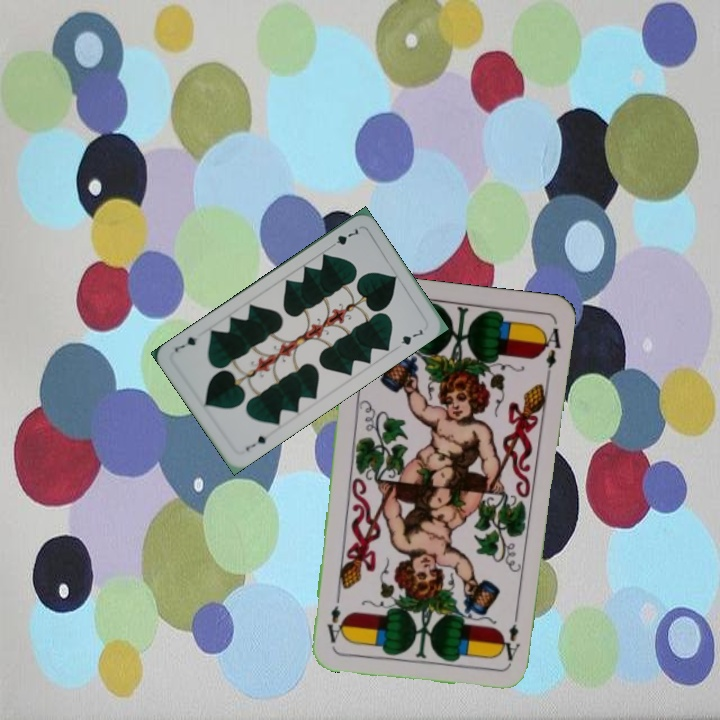EA: (502, 607, 523, 664)
G7: (325, 224, 362, 251), (241, 432, 269, 454)
